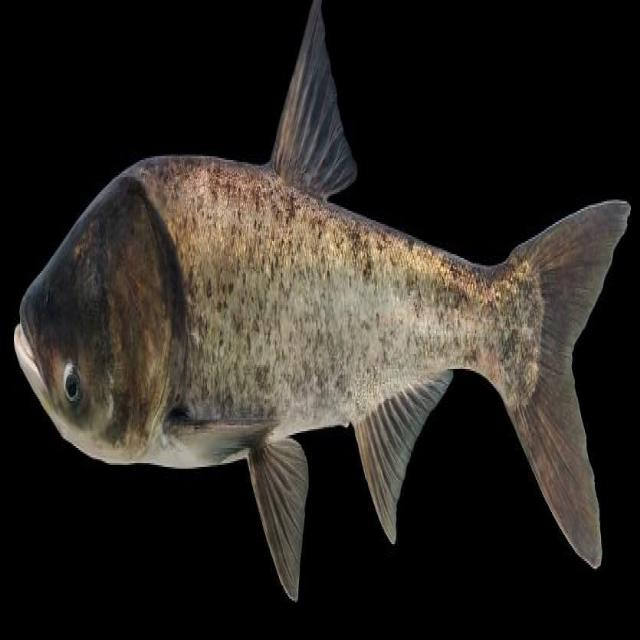Big-Head-Carp: (5, 14, 632, 626)
